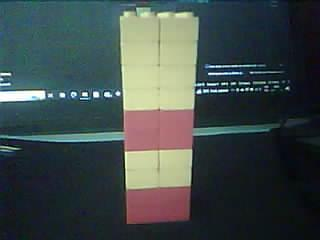lego: (118, 8, 198, 222)
